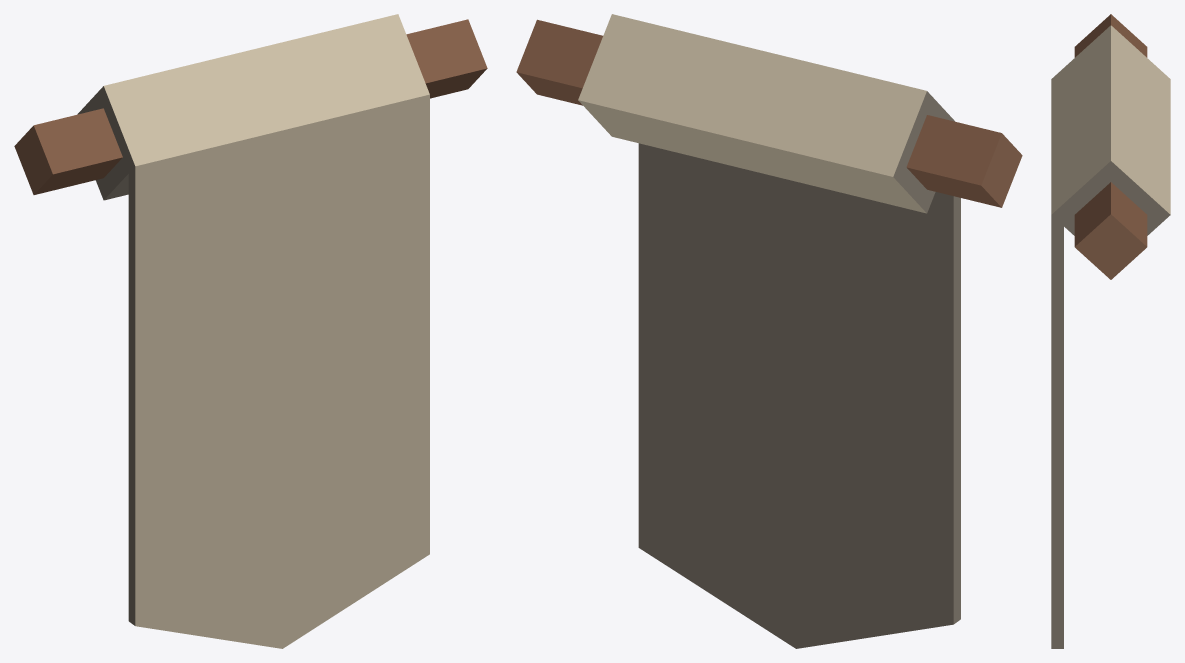
File: TB_Prop_FlagSingle_A.FBX
3 views of the same model, side by side, from view 1: azimuth 30°, elevation 25°; view 2: azimuth 150°, elevation 25°; view 3: azimuth 270°, elevation 25° (orthographic). The views are drawn at different scales.
Visible parts, largest first — view 1: TB_Prop_FlagSingle_A; view 2: TB_Prop_FlagSingle_A; view 3: TB_Prop_FlagSingle_A.
Part boxes in pixels (x1,y1,x2,y2): TB_Prop_FlagSingle_A: (14, 14, 487, 648); TB_Prop_FlagSingle_A: (516, 14, 1022, 648); TB_Prop_FlagSingle_A: (1051, 14, 1170, 648).
Size of the model in its own units: 1.95 by 2.47 by 0.4917.
